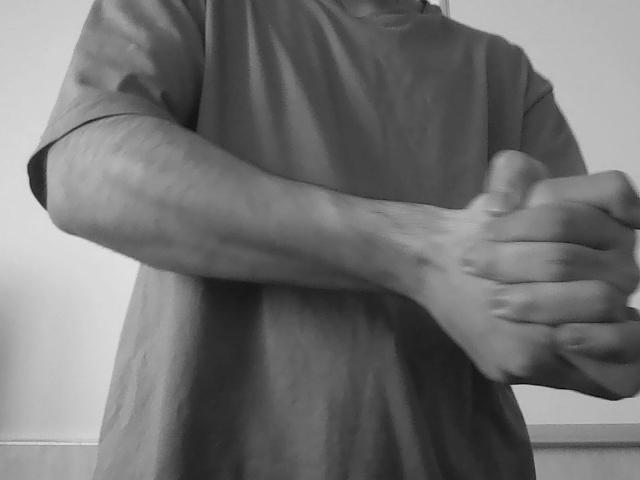friend: (388, 146, 640, 410)
